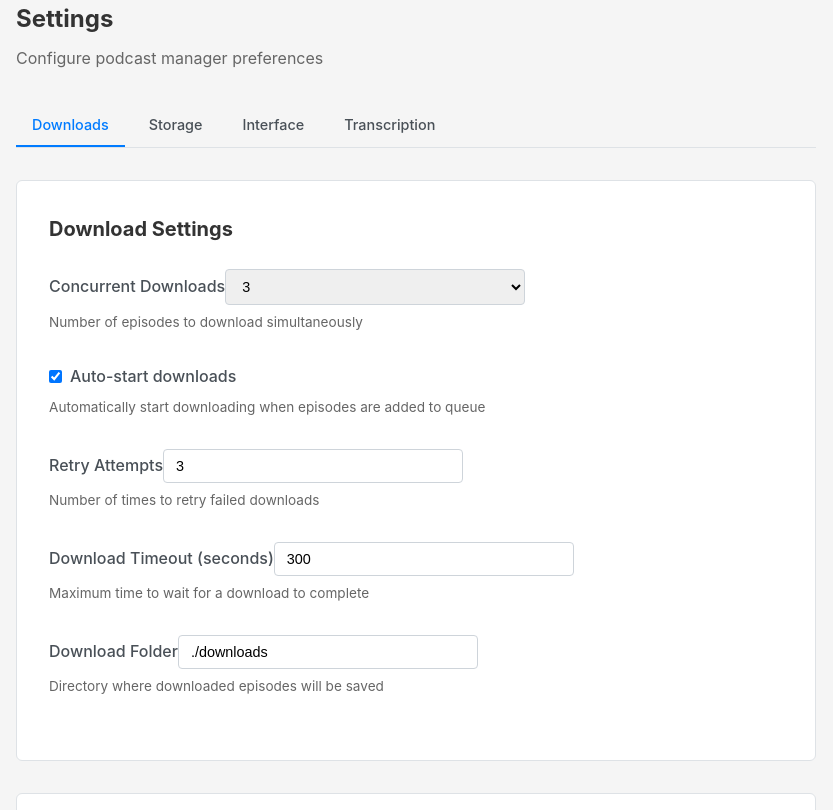
Test case: SettingsPanel › clears unsaved changes warning after save
// Make a change
Click the checkbox labelled "Auto-start downloads". click: (56, 377)
box: top-left (49, 370), bottom-right (62, 383)
(page scrolled)
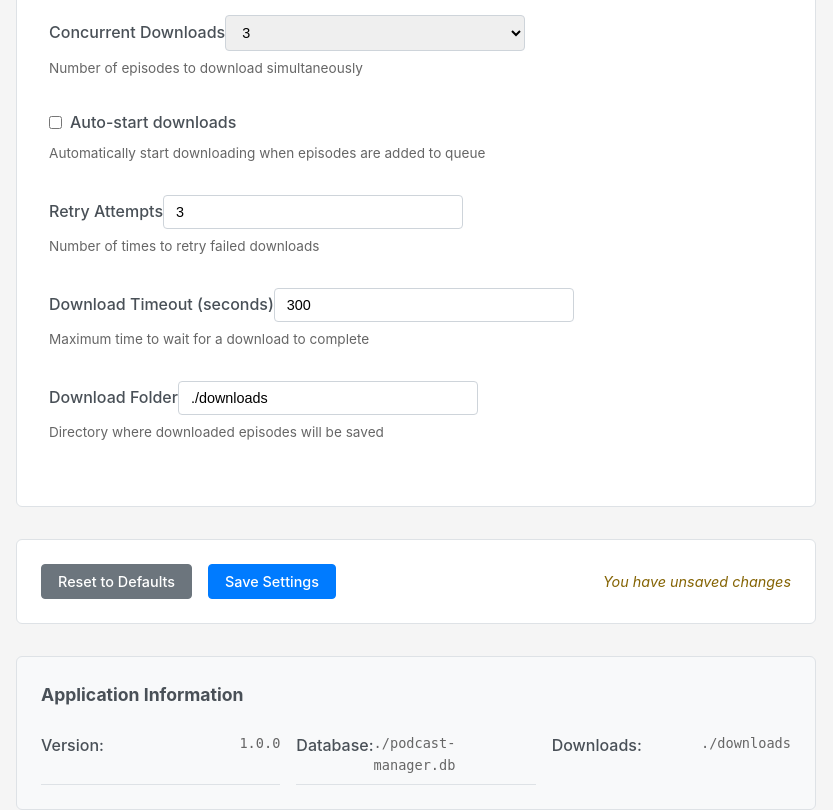
Expected: the text "You have unsaved changes" is shown, top-left (603, 570), bottom-right (791, 593)
// Save settings
Click the button "Save Settings". click: (272, 581)
box: top-left (208, 564), bottom-right (336, 599)
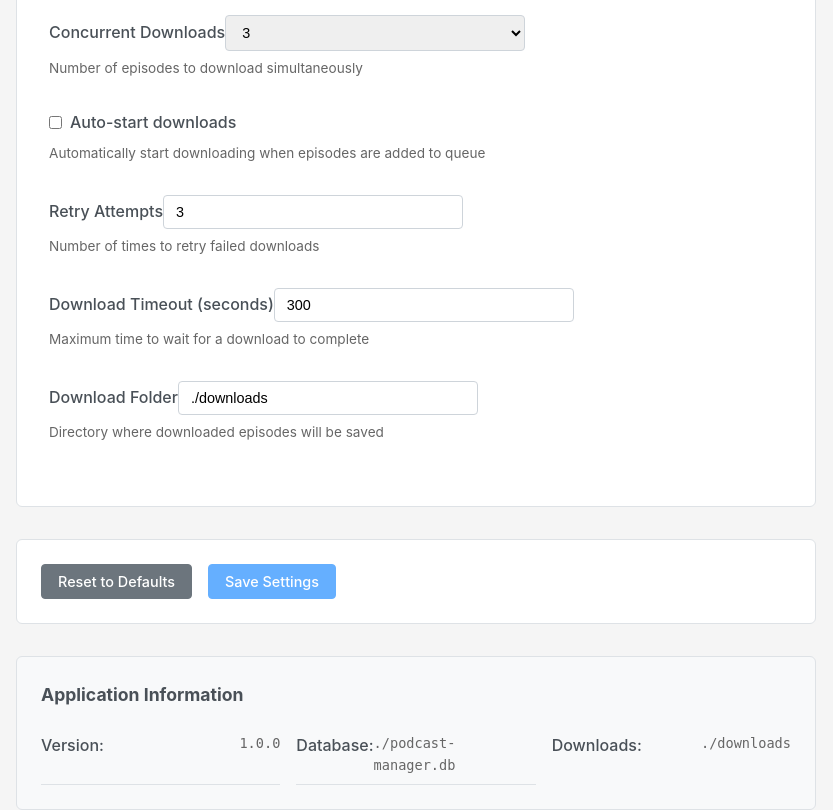
Expected: the text "You have unsaved changes" is gone
